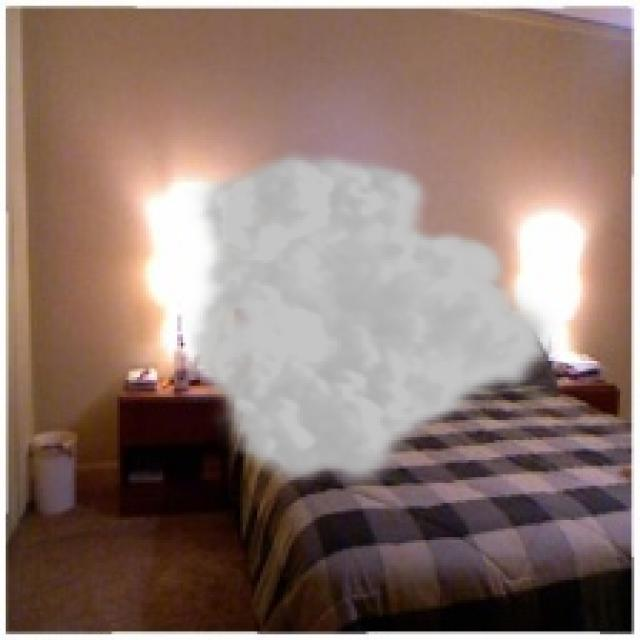smoke: (186, 146, 560, 494)
